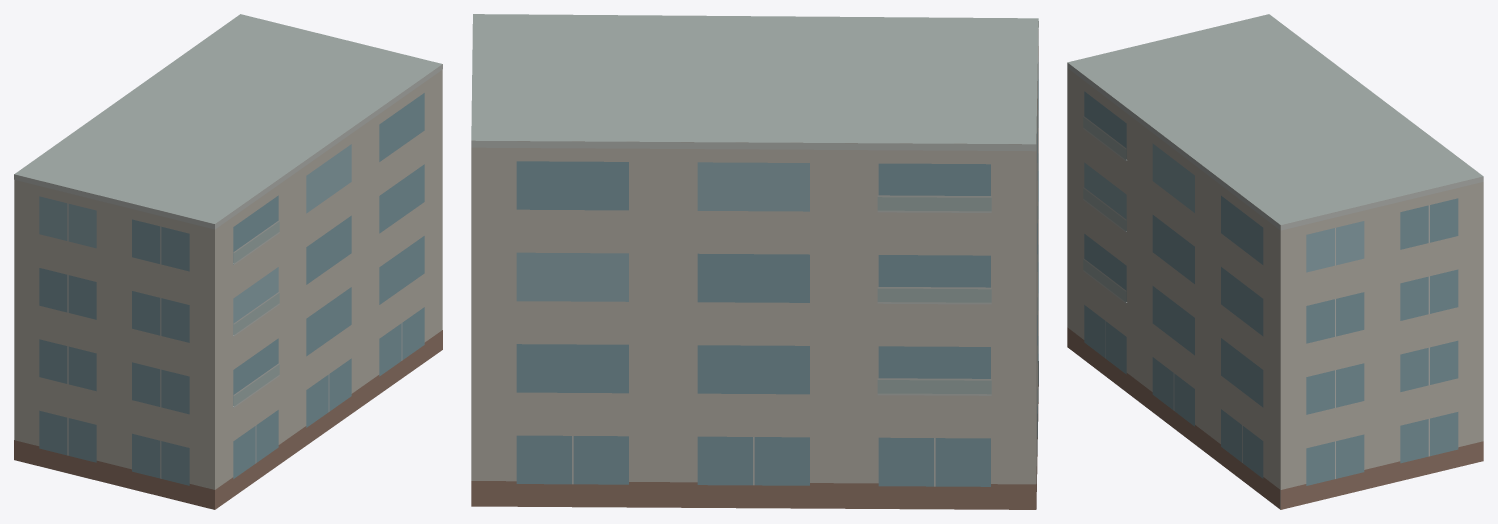
The model's file is survey-upis-32744246.glb.
3 renders of one model, left to right at view 1: azimuth 30°, elevation 25°; view 2: azimuth 150°, elevation 25°; view 3: azimuth 270°, elevation 25°, orthographic. The views are drawn at different scales.
Parts seen in each view (by area): view 1: survey-upis-32744246.tmp; view 2: survey-upis-32744246.tmp; view 3: survey-upis-32744246.tmp.
Part boxes in pixels (left/top/right/bottom): survey-upis-32744246.tmp: left=14, top=14, right=442, bottom=509; survey-upis-32744246.tmp: left=471, top=14, right=1038, bottom=509; survey-upis-32744246.tmp: left=1067, top=14, right=1483, bottom=509.
Bounding box in the file's own units: 20.37 × 12.8 × 16.97.
